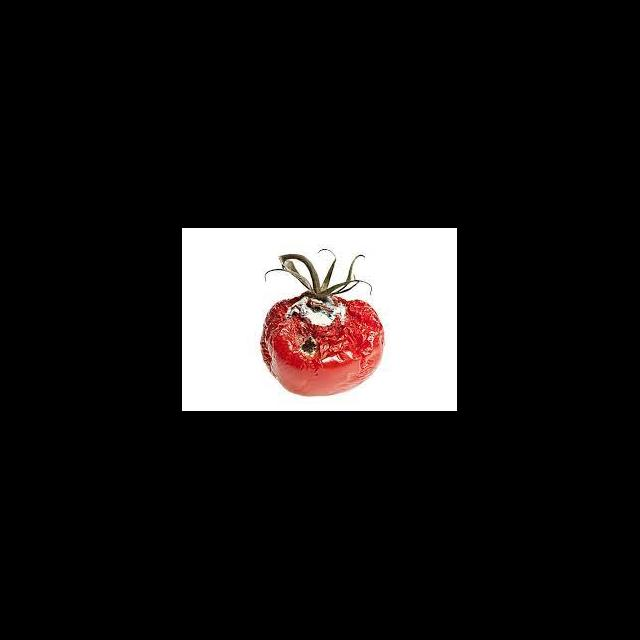tomato: (251, 237, 398, 405)
